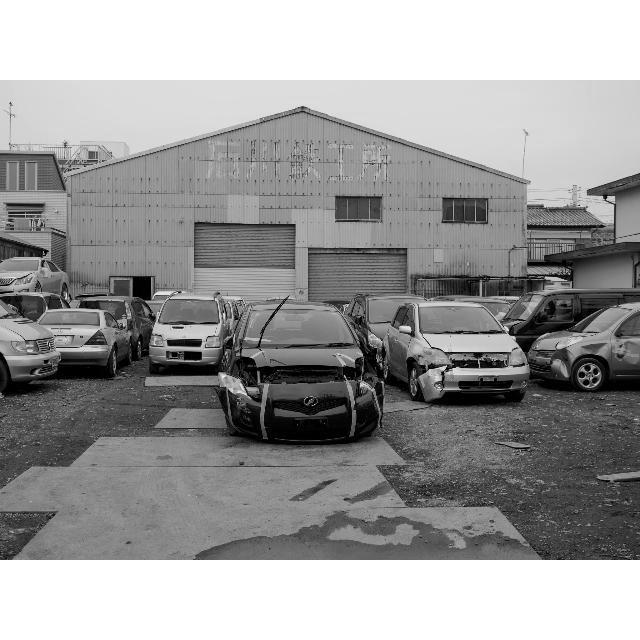Headlight-damage: (353, 374, 381, 396), (422, 352, 454, 371)
bonnet-dent: (241, 342, 365, 373)
fender-dent: (572, 340, 612, 365)
front-bumper-dent: (233, 382, 370, 439), (418, 370, 525, 396), (535, 350, 575, 384)
